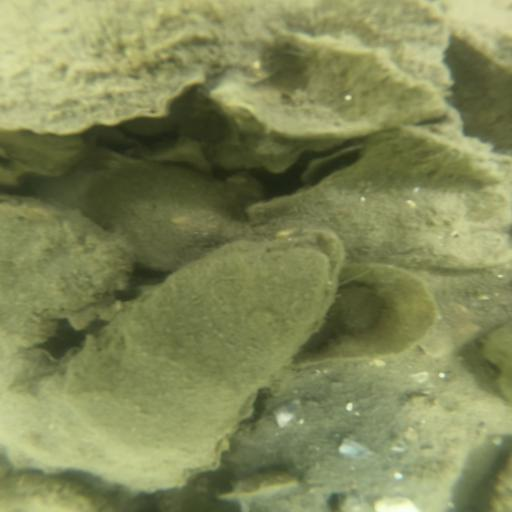Oyster-Closed: (1, 1, 464, 136), (229, 377, 493, 512), (251, 133, 506, 268), (5, 195, 132, 350), (83, 161, 240, 264), (358, 124, 505, 188)
Oyster-Open: (43, 228, 352, 484), (199, 45, 467, 170)
